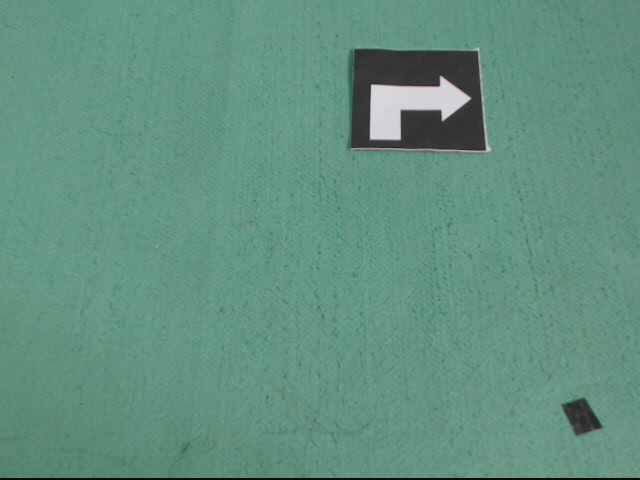right: (350, 47, 492, 154)
